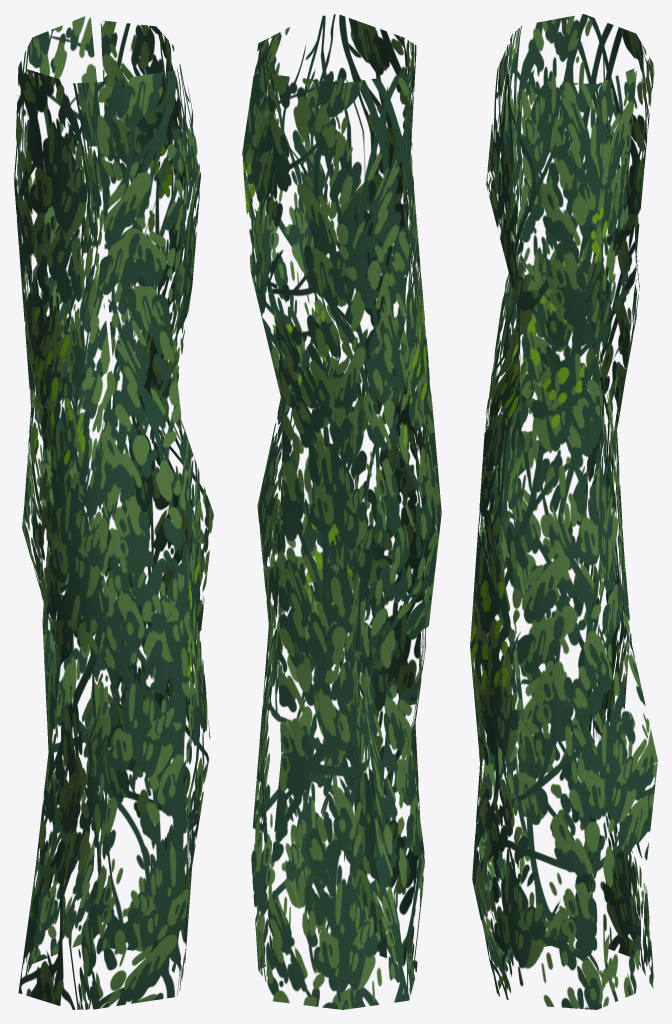
The model's file is Ivy_Pillar_1.glb.
The picture shows the model from 3 angles, left to right: view 1: azimuth 30°, elevation 25°; view 2: azimuth 150°, elevation 25°; view 3: azimuth 270°, elevation 25°; orthographic projection.
Visible parts, largest first — view 1: Ivy_Pillar_1; view 2: Ivy_Pillar_1; view 3: Ivy_Pillar_1.
Part boxes in pixels (left/top/right/bottom): Ivy_Pillar_1: left=14, top=16, right=213, bottom=1009; Ivy_Pillar_1: left=242, top=14, right=441, bottom=1009; Ivy_Pillar_1: left=470, top=14, right=657, bottom=1009.
Size of the model in its own units: 0.373 by 1.98 by 0.3649.
Materials: 1 (1 with a texture image).
